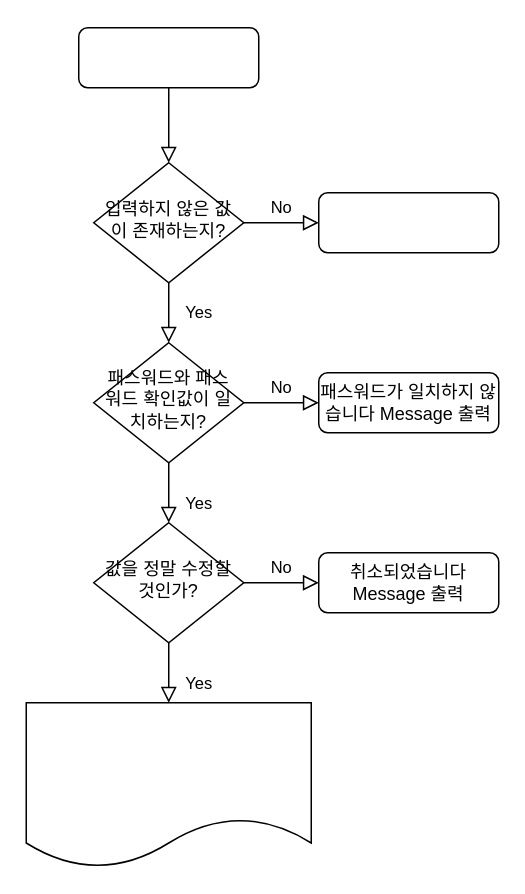
Some shapes in this 525 by 894 pixel diagram are drawn without their labels. The shapes that lost their labels are listed below. From the top down, each one's centre as x and y in pixels, then its label:
At (168,57): "사용자가 수정할 정보를 입력하고 수정버튼을 클릭한다.".
At (408,222): "입력이 안된 값이 존재한다고 Message 출력".
At (168,784): "회원 정보 수정 완료 1. DB에 회원 정보 Update 2. 성공적으로 수정되었습니다 Message 출력 3. 메인 화면으로 이동".
